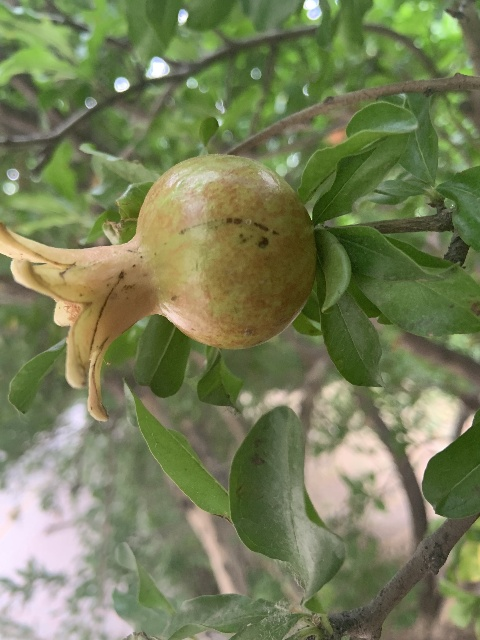early-fruit: (10, 155, 316, 424)
